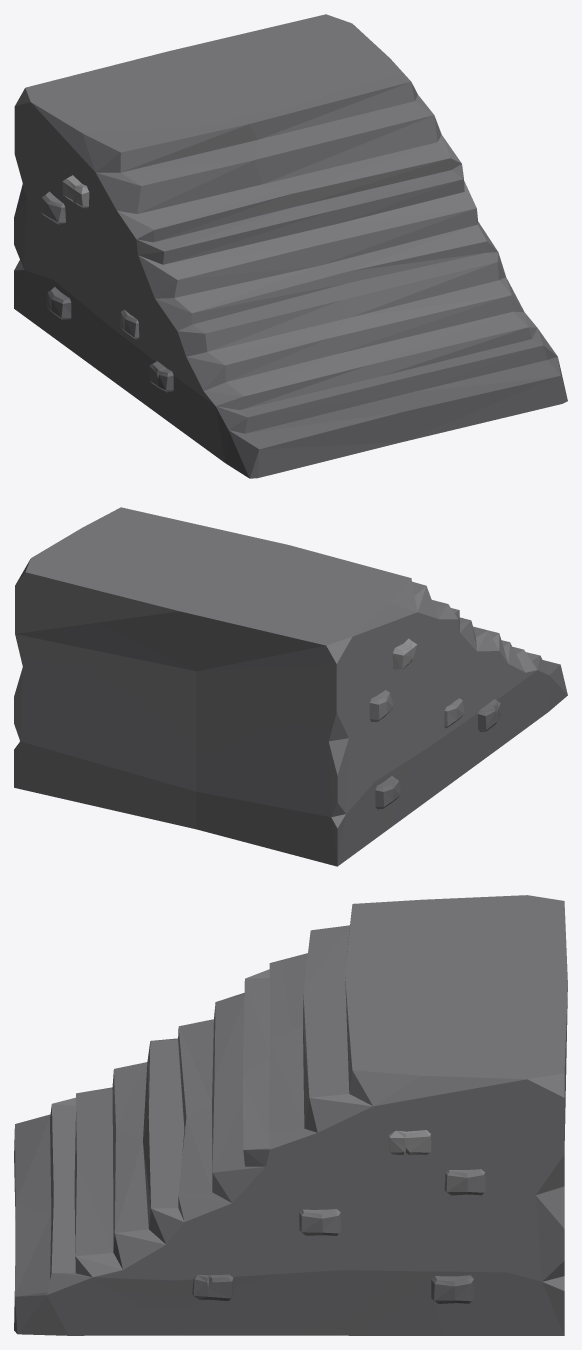
The model's file is SM_Bld_StairsLarge_02.gltf.
3 renders of one model, top to bottom at view 1: azimuth 30°, elevation 25°; view 2: azimuth 150°, elevation 25°; view 3: azimuth 270°, elevation 25°, orthographic. The views are drawn at different scales.
Visible parts, largest first — view 1: SM_Bld_StairsLarge_02; view 2: SM_Bld_StairsLarge_02; view 3: SM_Bld_StairsLarge_02.
Part boxes in pixels (x1,y1,x2,y2): SM_Bld_StairsLarge_02: (14, 14, 567, 478); SM_Bld_StairsLarge_02: (14, 507, 567, 866); SM_Bld_StairsLarge_02: (14, 895, 567, 1335).
Bounding box in the file's own units: 3.23 × 1.98 × 3.88.
1 material, 1 textured.
